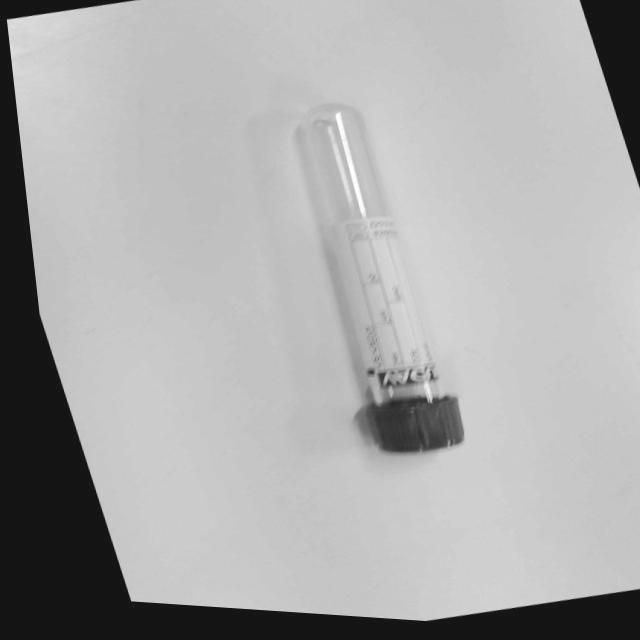General: (370, 392, 467, 454)
Pathological: (8, 0, 639, 624)
Sharps: (295, 101, 466, 453)
